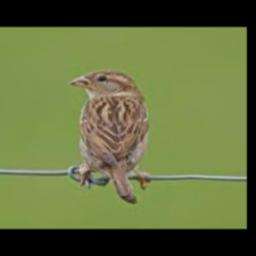Sparrow: (68, 69, 148, 203)
